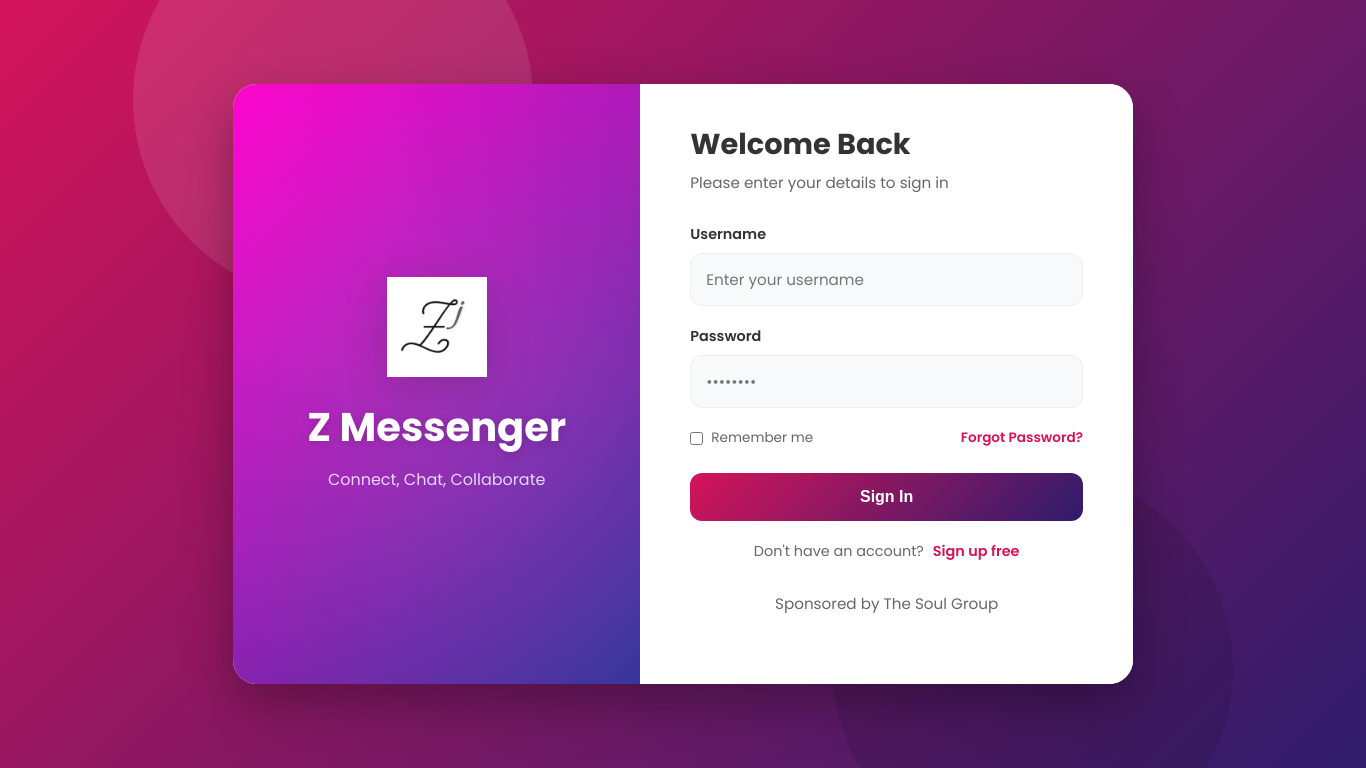
Scenario: Login › displays error message on failed login
// Fill in and submit form
Type "testuser" into the field labelled "Username" at (887, 280), box [690, 253, 1083, 306]
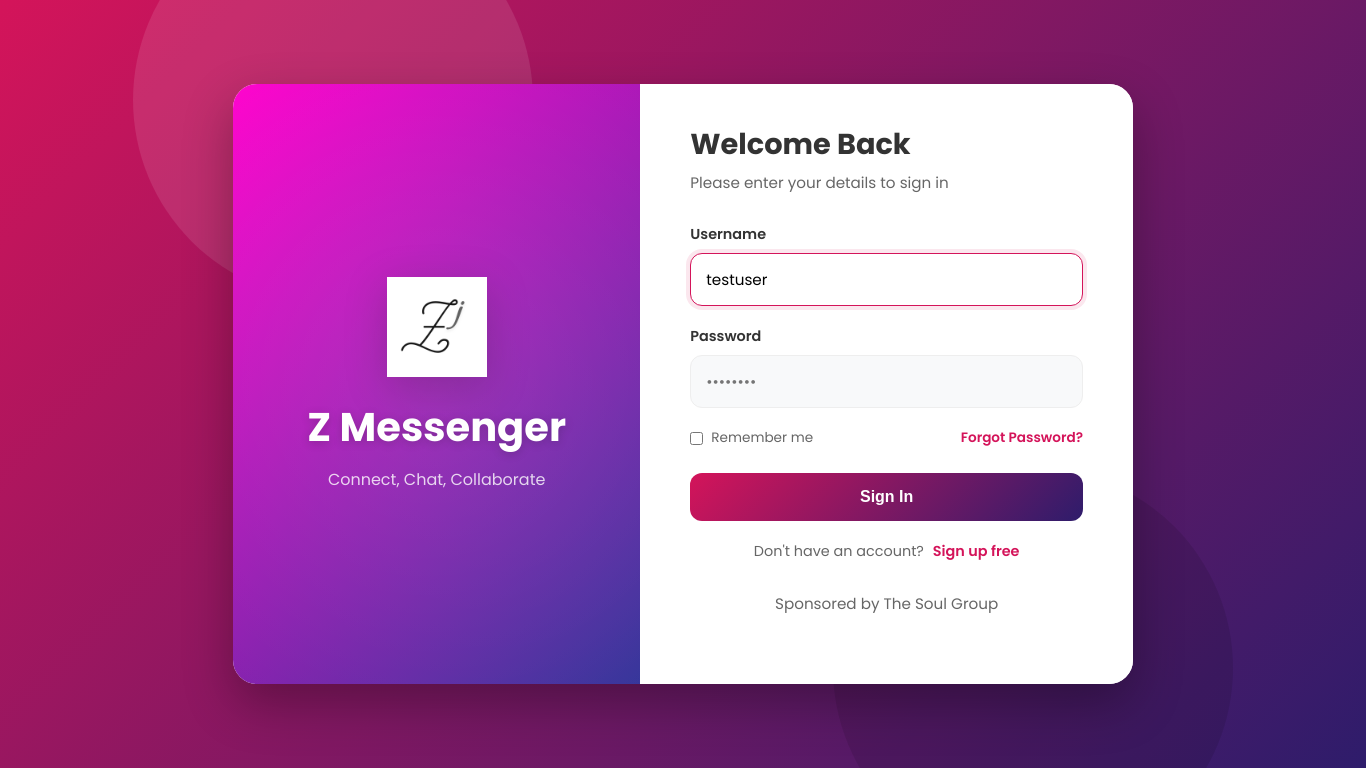
Type "wrongpassword" into the password field labelled "Password" at (887, 382), box [690, 355, 1083, 408]
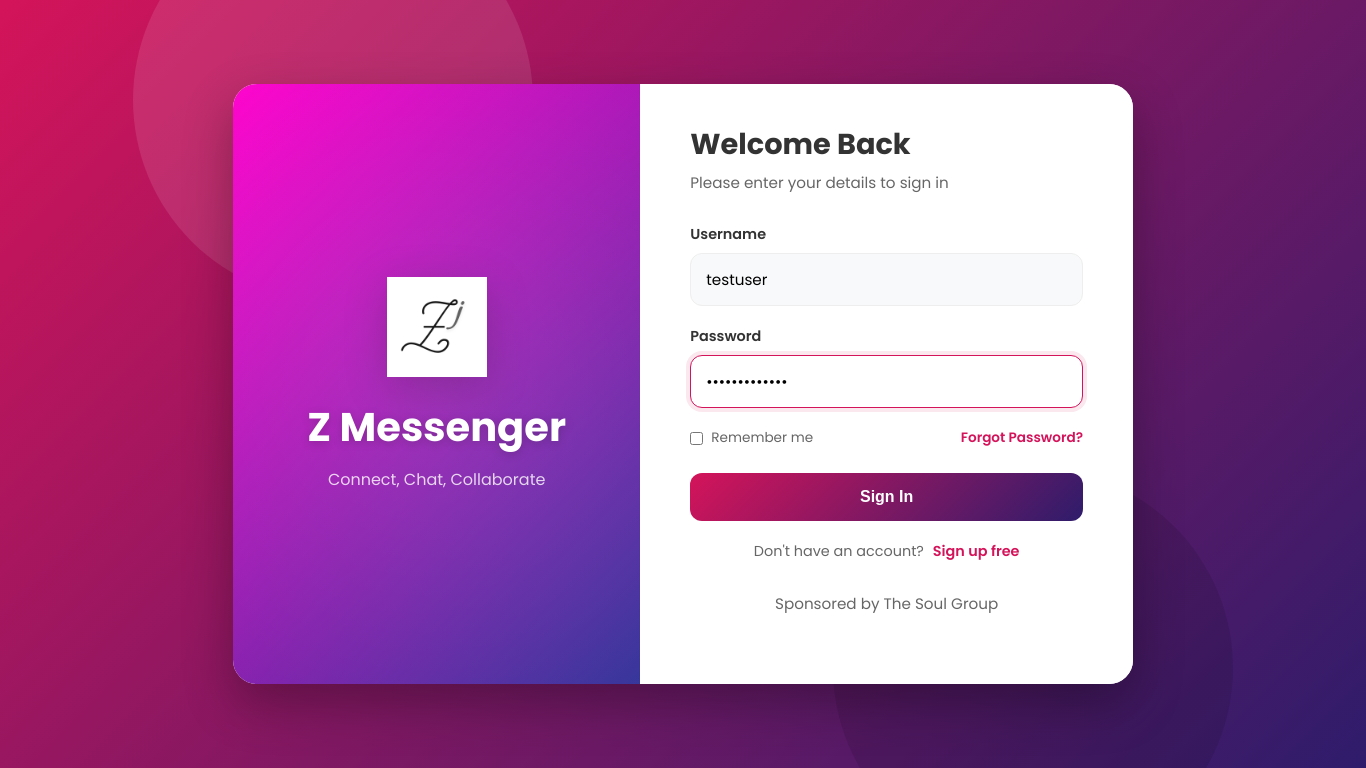
Click the button with aria-label "login" at (887, 497), box [690, 473, 1083, 521]
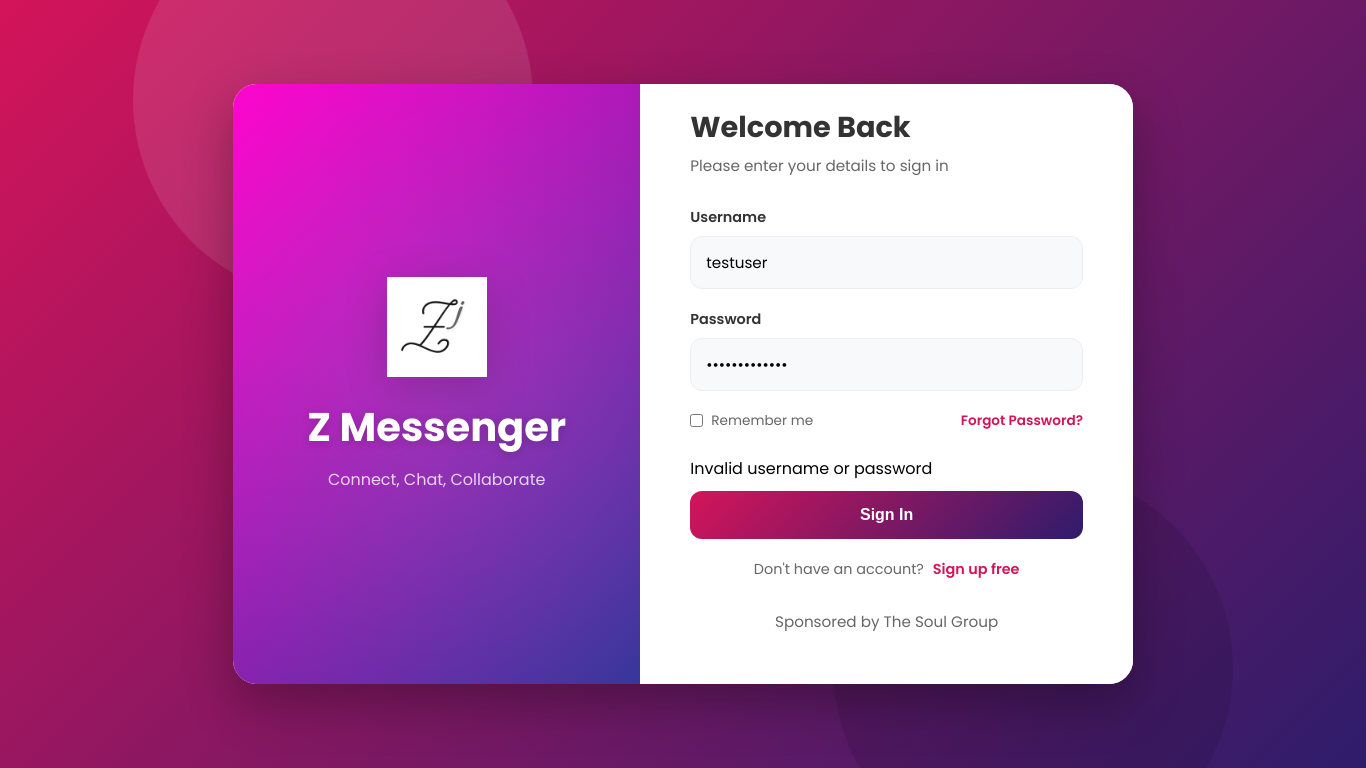
Expected: the text "Invalid username or password" is shown, [690, 456, 932, 480]
